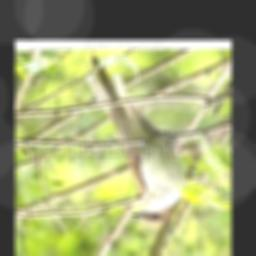Cuckoo: (85, 57, 185, 227)
